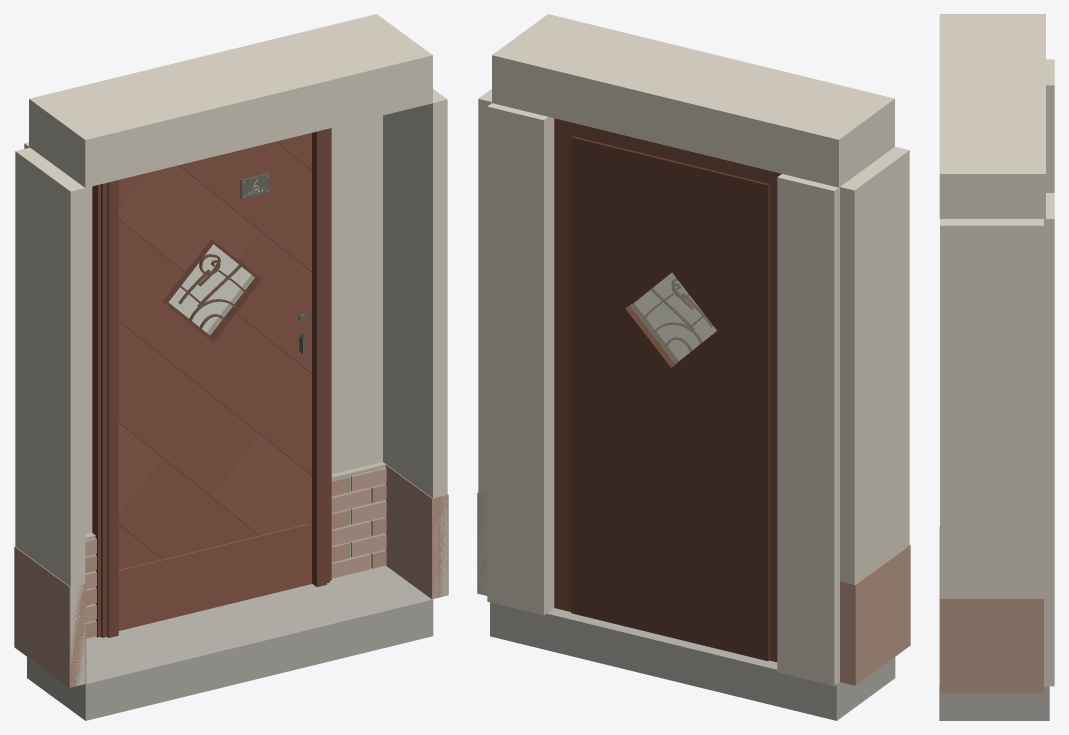
The model's file is xuhui-yuyuan-six-rear-diamond-door-full.glb.
3 renders of one model, left to right at view 1: azimuth 30°, elevation 25°; view 2: azimuth 150°, elevation 25°; view 3: azimuth 270°, elevation 25°, orthographic. The views are drawn at different scales.
Parts seen in each view (by area): view 1: 愉园6号后门菱窗与卷草铁艺; view 2: 愉园6号后门菱窗与卷草铁艺; view 3: 愉园6号后门菱窗与卷草铁艺.
Part boxes in pixels (x1=…): 愉园6号后门菱窗与卷草铁艺: x1=14, y1=14, x2=448, y2=720; 愉园6号后门菱窗与卷草铁艺: x1=477, y1=14, x2=910, y2=720; 愉园6号后门菱窗与卷草铁艺: x1=939, y1=14, x2=1054, y2=720.
Bounding box in the file's own units: 1.9 × 2.78 × 0.533.
